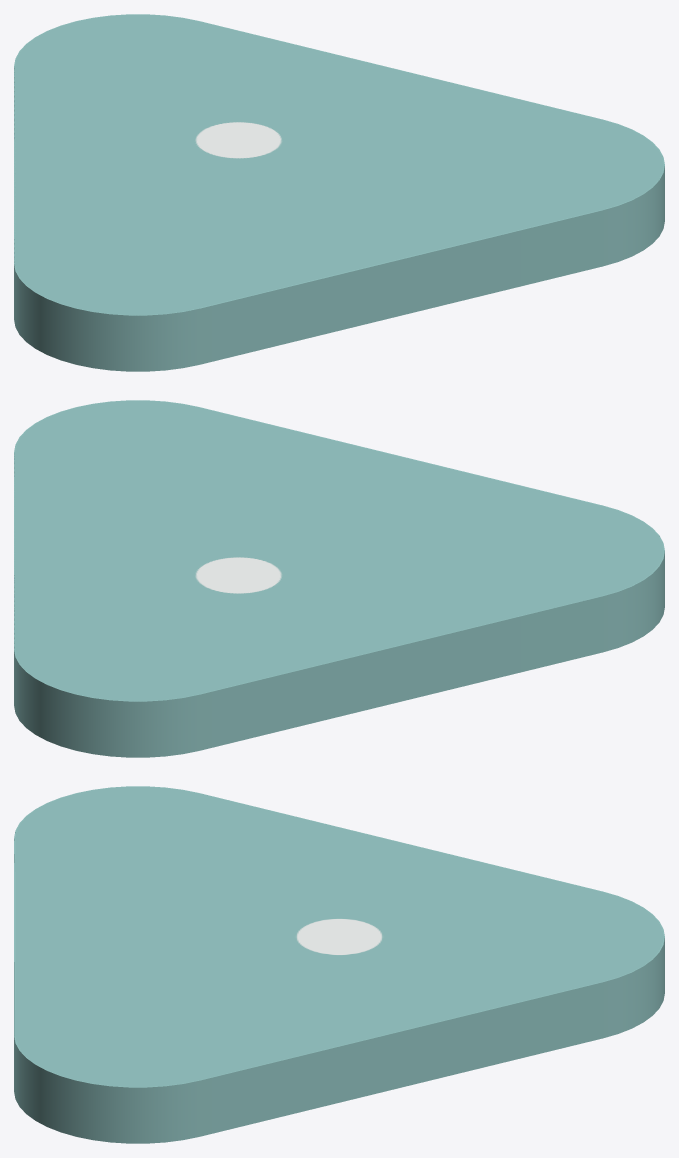
File: back_tri.glb
3 views of the same model, one above another, from view 1: azimuth 30°, elevation 25°; view 2: azimuth 150°, elevation 25°; view 3: azimuth 270°, elevation 25° (orthographic).
Visible parts, largest first — view 1: back_tri; view 2: back_tri; view 3: back_tri.
Part boxes in pixels (x1,y1,x2,y2): back_tri: (14,14,664,371); back_tri: (14,400,664,757); back_tri: (14,786,664,1143).
Bounding box in the file's own units: 0.0276 × 0.0024 × 0.0252.
Materials: 2 (1 with a texture image).
